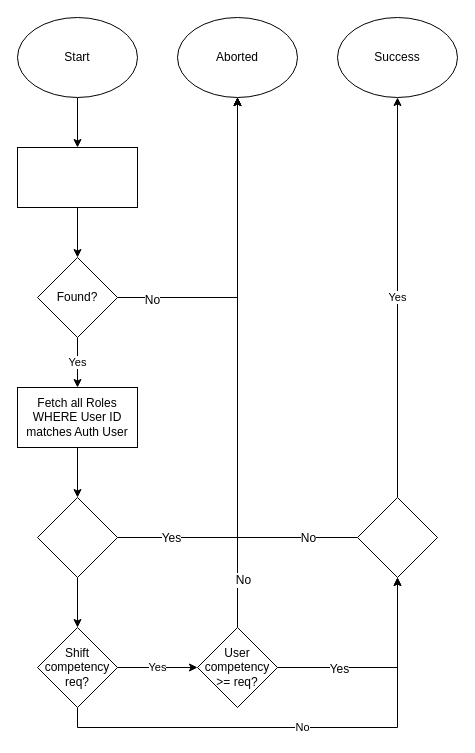
Image size: 475x753. Some labels were removed from this diagram. Each missing label, with the centre of its shape:
Empty collection?: (77,537)
Is role vacant?: (397,537)
Retrieve the Shift by its provided ID: (77,177)
